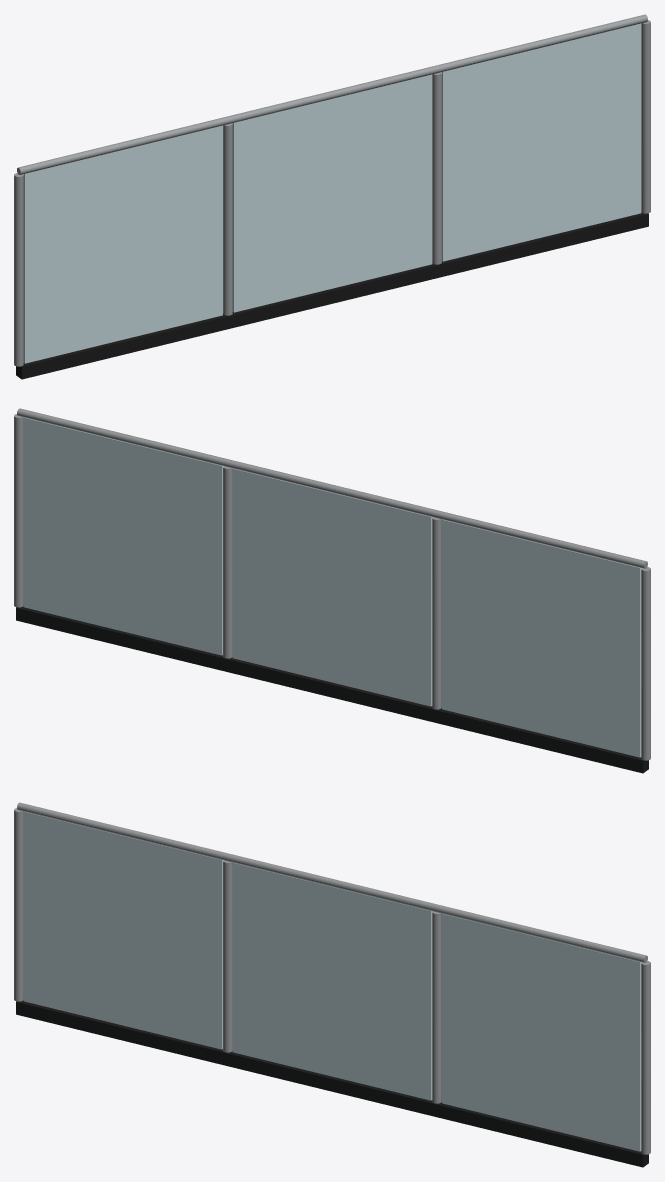
Rendered from gteki_fare_fence_glass_h1150.glb.
The picture shows the model from 3 angles, top to bottom: view 1: azimuth 30°, elevation 25°; view 2: azimuth 150°, elevation 25°; view 3: azimuth 330°, elevation 25°; orthographic projection.
Visible parts, largest first — view 1: VIS_body; view 2: VIS_body; view 3: VIS_body.
Boxes of the visible parts, x1,y1,x2,y2 form: VIS_body: [14, 14, 650, 379]; VIS_body: [14, 408, 650, 773]; VIS_body: [14, 802, 650, 1167].
Size of the model in its own units: 3.65 by 1.15 by 0.06.
2 materials, 2 textured.
